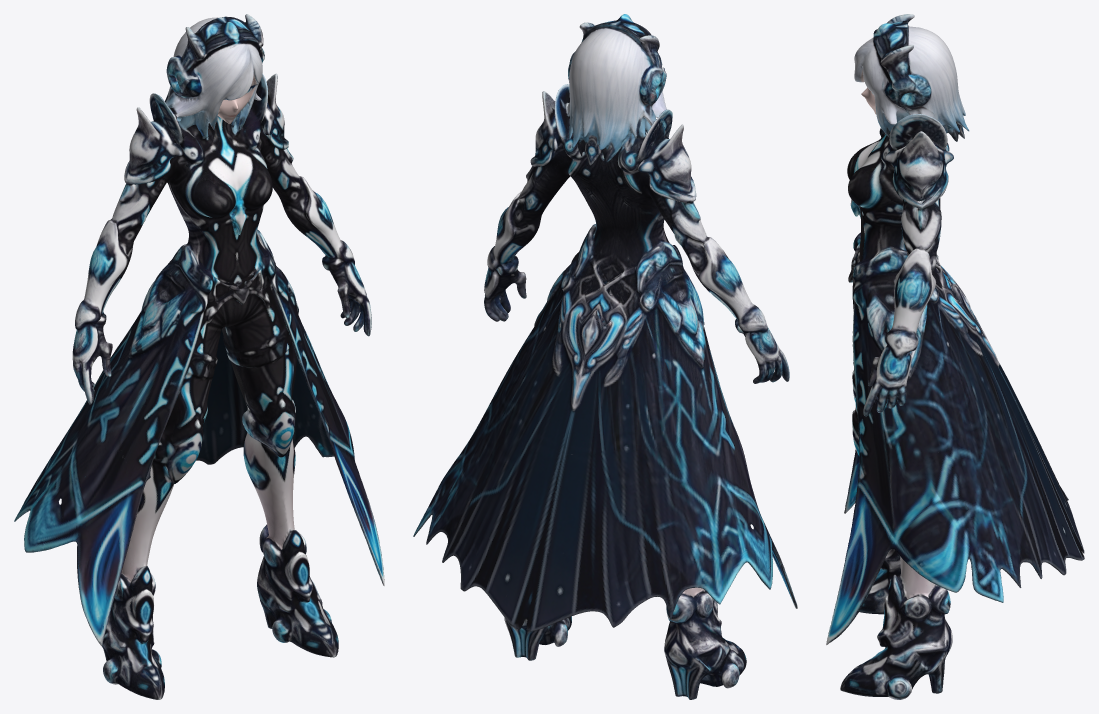
The model's file is sera_n7.glb.
The picture shows the model from 3 angles, left to right: view 1: azimuth 30°, elevation 25°; view 2: azimuth 150°, elevation 25°; view 3: azimuth 270°, elevation 25°; orthographic projection.
Size of the model in its own units: 1.02 by 1.9 by 0.7045.
1 material, 1 textured.
